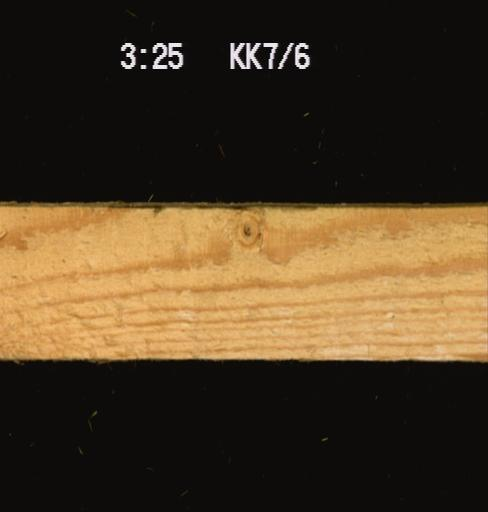small_knot: (228, 208, 265, 248)
